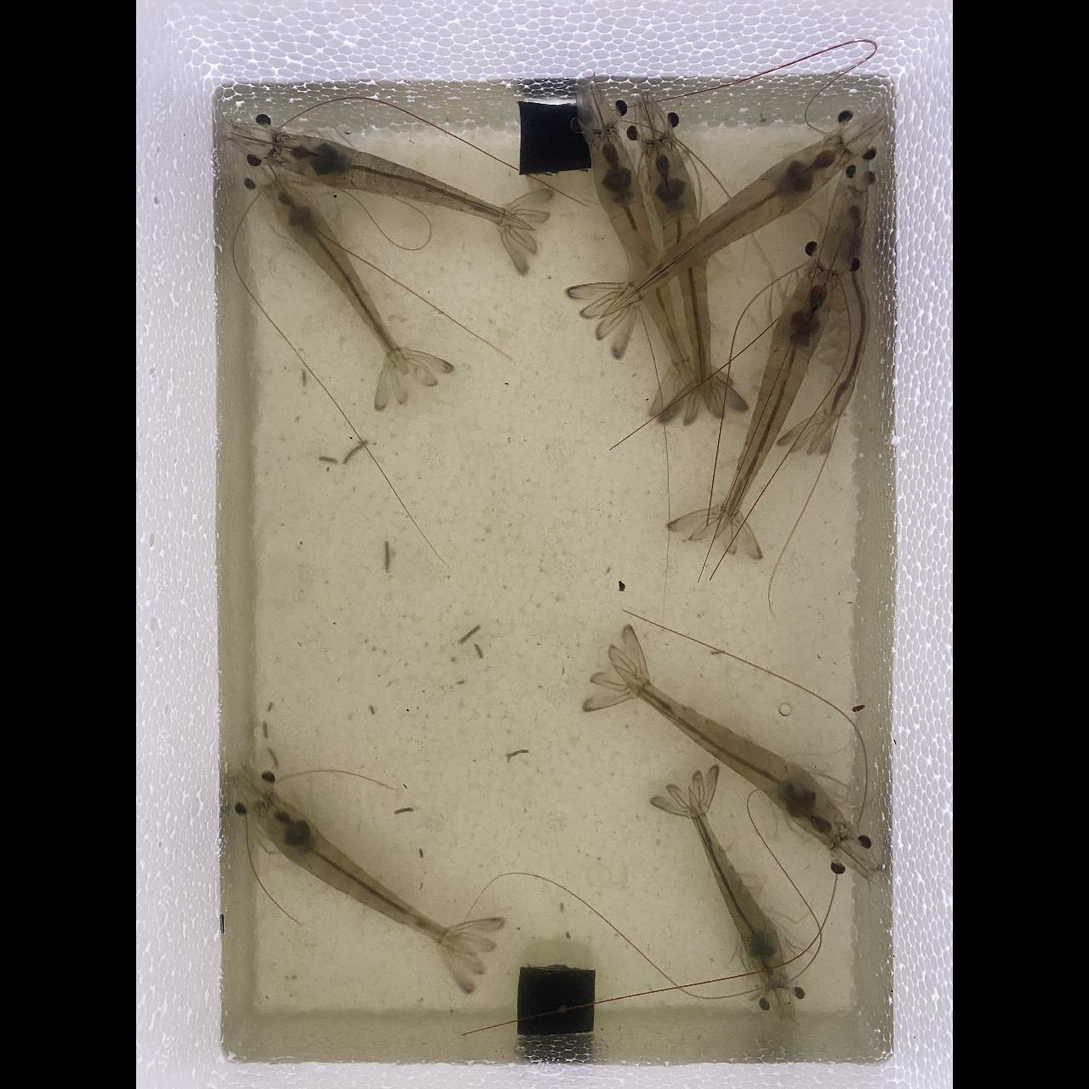box: (517, 966, 596, 1035), (521, 100, 590, 175)
top_shrimp: (598, 137, 848, 314), (614, 667, 842, 842), (257, 796, 473, 953), (715, 271, 837, 531), (591, 129, 698, 410), (265, 177, 407, 373), (272, 134, 529, 228), (687, 795, 783, 982), (805, 185, 872, 452), (649, 137, 709, 415)
